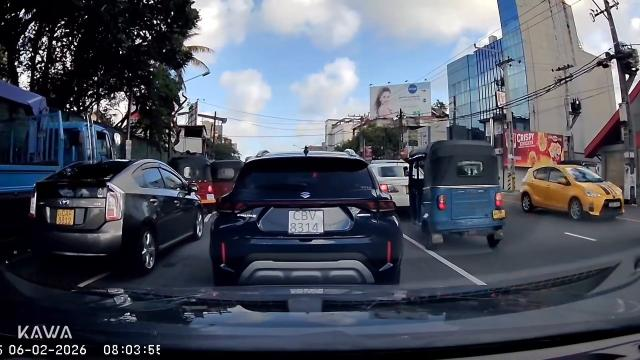illegal overtaking: (411, 139, 517, 249)
number plate: (289, 209, 329, 240), (54, 202, 78, 234), (489, 207, 510, 220)
